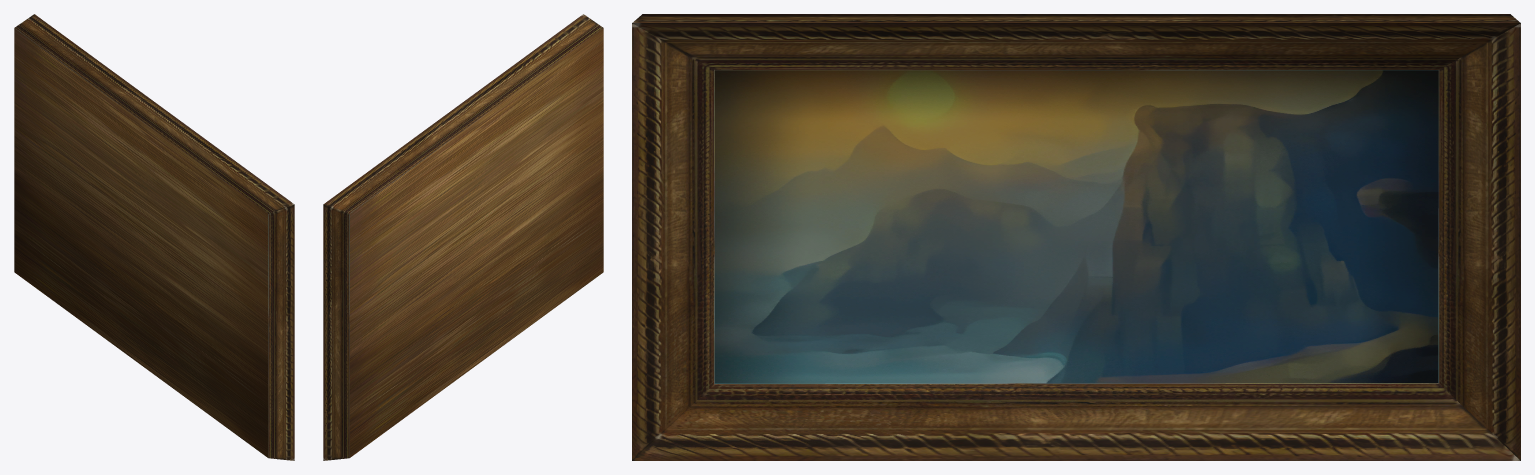
Rendered from stormwindpainting02.obj.
The picture shows the model from 3 angles, left to right: view 1: azimuth 30°, elevation 25°; view 2: azimuth 150°, elevation 25°; view 3: azimuth 270°, elevation 25°; orthographic projection. The views are drawn at different scales.
Parts seen in each view (by area): view 1: stormwindpainting02; view 2: stormwindpainting02; view 3: stormwindpainting02.
Boxes of the visible parts, left/top/right/bottom form: stormwindpainting02: left=14, top=14, right=294, bottom=460; stormwindpainting02: left=323, top=14, right=603, bottom=460; stormwindpainting02: left=632, top=14, right=1520, bottom=460.
Bounding box in the file's own units: 0.2227 × 2.34 × 4.3.
Materials: 1 (1 with a texture image).
